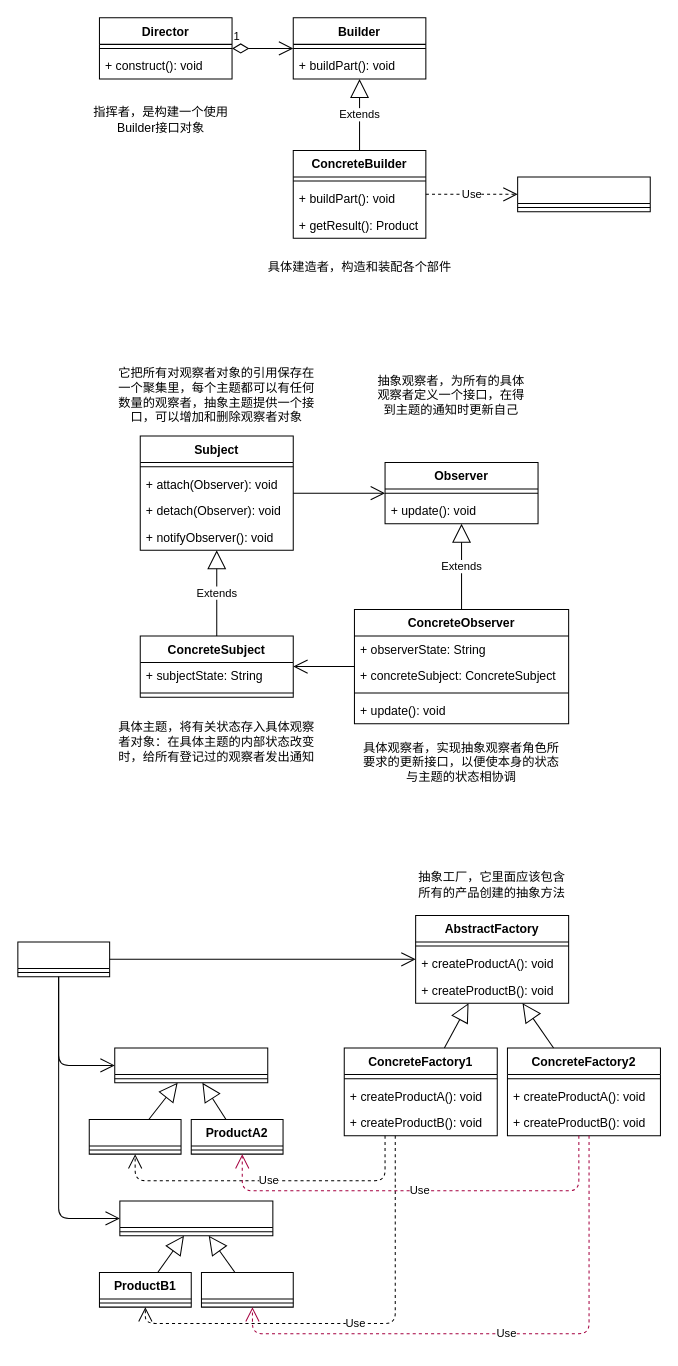
Image size: 678x1366. Some labels were removed from this diagram. The centre of each missing label's shape, as x and y in pixels:
"AbstractProductA" goes at pixel 191 1065.
"AbstractProductB" goes at pixel 196 1218.
"Client" goes at pixel 63 959.
"Product" goes at pixel 583 194.
"ProductA1" goes at pixel 134 1136.
"ProductB2" goes at pixel 246 1289.
